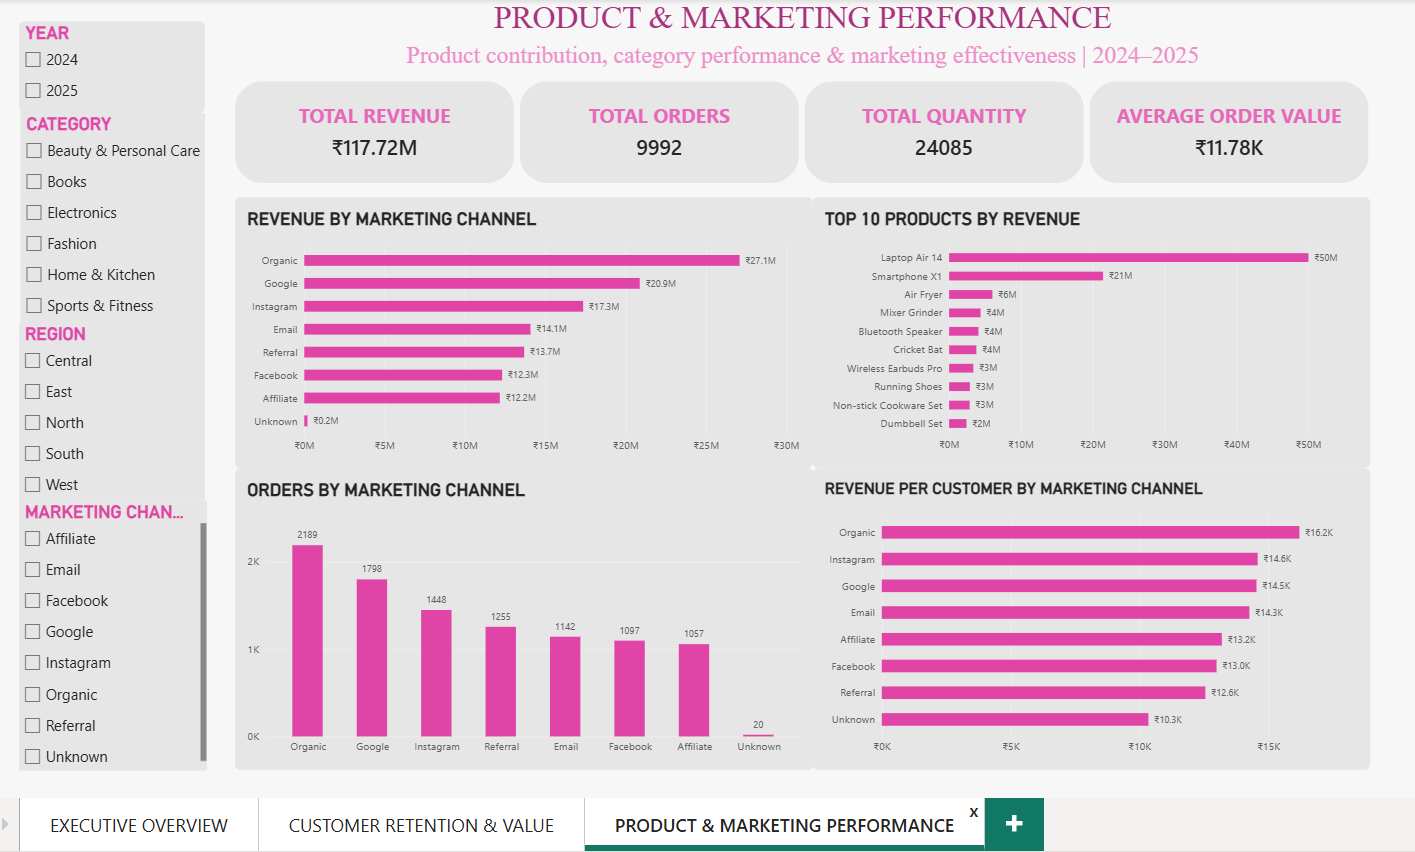

Layout of this report page (visuals, bound fields, positions):
{"tool":"powerbi","page":{"name":"PRODUCT & MARKETING PERFORMANCE","canvas":[1920,1080],"ordinal":2},"visuals":[{"type":"textbox","box":[320.4,0,1534.9,60.8],"z":0},{"type":"textbox","box":[320.4,56.8,1534.9,42.6],"z":1000},{"type":"barChart","title":"TOP 10 PRODUCTS BY REVENUE","fields":{"Category":["Products.Product_Name"],"Y":["Measures (2).Total Revenue"]},"box":[1101.2,267.7,754.3,367],"z":2000},{"type":"clusteredBarChart","title":"REVENUE BY MARKETING CHANNEL","fields":{"Category":["Transactions.Marketing_Channel"],"Y":["Measures (2).Total Revenue"]},"box":[321.3,267.4,780.8,367.6],"z":3000},{"type":"barChart","title":"REVENUE/CUSTOMER BY MARKETING CHANNEL","fields":{"Category":["Transactions.Marketing_Channel"],"Y":["Measures (2).Revenue per Customer"]},"box":[1101,634.6,754.3,407.5],"z":4000},{"type":"columnChart","title":"ORDERS BY MARKETING CHANNEL","fields":{"Category":["Transactions.Marketing_Channel"],"Y":["Measures (2).Total Orders"]},"box":[320.4,634.6,782.6,407.5],"z":5000},{"type":"slicer","fields":{"Values":["Calendar.Year"]},"box":[28.4,30.4,251.4,123.7],"z":6000},{"type":"slicer","fields":{"Values":["Products.Category"]},"box":[30.4,154.1,249.4,283.9],"z":7000},{"type":"slicer","fields":{"Values":["Transactions.Region"]},"box":[28.4,438,251.4,241.3],"z":8000},{"type":"slicer","fields":{"Values":["Transactions.Marketing_Channel"]},"box":[28.4,679.2,253.4,362.9],"z":9000},{"type":"cardVisual","fields":{"Data":["Measures (2).Total Revenue","Measures (2).Total Orders","Measures (2).Total Quantity","Measures (2).Average Order Value"]},"box":[320.4,111.5,1534.9,137.9],"z":10000}]}

Visuals, with their boxes on the page's 1920x1080 design canvas (x1, y1, x2, y2). These are canvas units, not pixel positions in the 1415x852 screenshot, which may show the page scaled, cropped or inside an application window:
textbox: x1=320 y1=0 x2=1855 y2=61
textbox: x1=320 y1=57 x2=1855 y2=99
"TOP 10 PRODUCTS BY REVENUE" barChart: x1=1101 y1=268 x2=1856 y2=635
"REVENUE BY MARKETING CHANNEL" clusteredBarChart: x1=321 y1=267 x2=1102 y2=635
"REVENUE/CUSTOMER BY MARKETING CHANNEL" barChart: x1=1101 y1=635 x2=1855 y2=1042
"ORDERS BY MARKETING CHANNEL" columnChart: x1=320 y1=635 x2=1103 y2=1042
slicer - Calendar.Year: x1=28 y1=30 x2=280 y2=154
slicer - Products.Category: x1=30 y1=154 x2=280 y2=438
slicer - Transactions.Region: x1=28 y1=438 x2=280 y2=679
slicer - Transactions.Marketing_Channel: x1=28 y1=679 x2=282 y2=1042
cardVisual - Measures (2).Total Revenue x Measures (2).Total Orders: x1=320 y1=112 x2=1855 y2=249
